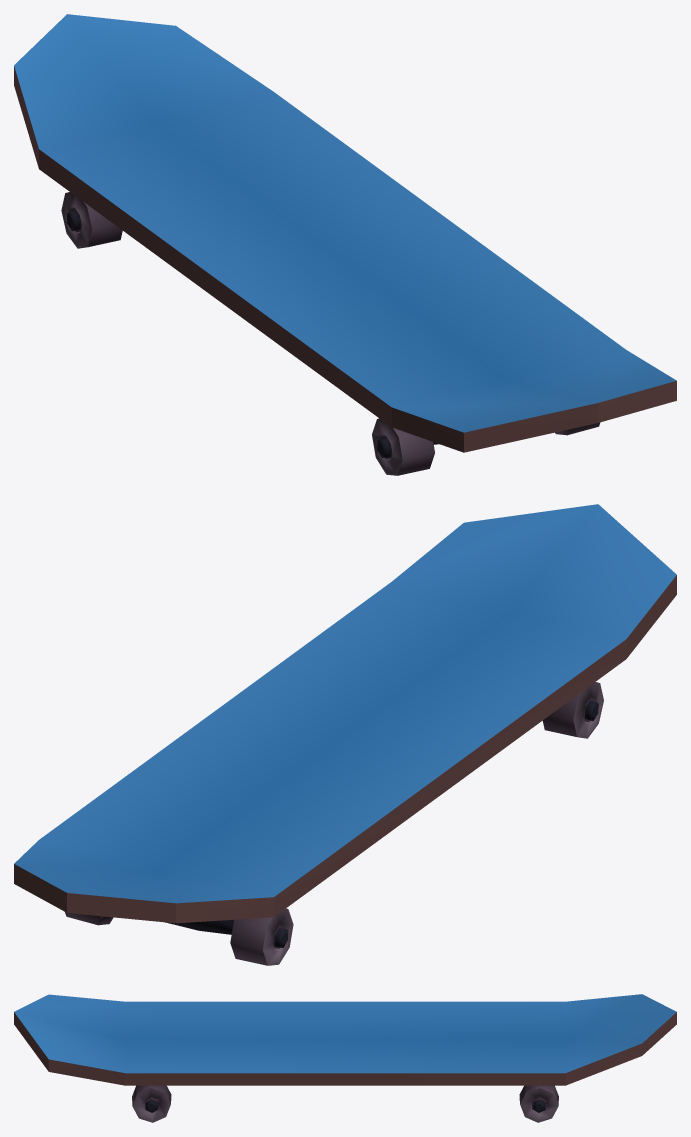
Rendered from human-sports-skateboard_v1.fbx.
3 views of the same model, one above another, from view 1: azimuth 30°, elevation 25°; view 2: azimuth 150°, elevation 25°; view 3: azimuth 270°, elevation 25° (orthographic). The views are drawn at different scales.
Visible parts, largest first — view 1: Skateboard; view 2: Skateboard; view 3: Skateboard.
Boxes of the visible parts, x1,y1,x2,y2 form: Skateboard: (14,14,676,475); Skateboard: (14,504,676,965); Skateboard: (14,994,676,1122).
Bounding box in the file's own units: 0.2043 × 0.1075 × 0.8.
